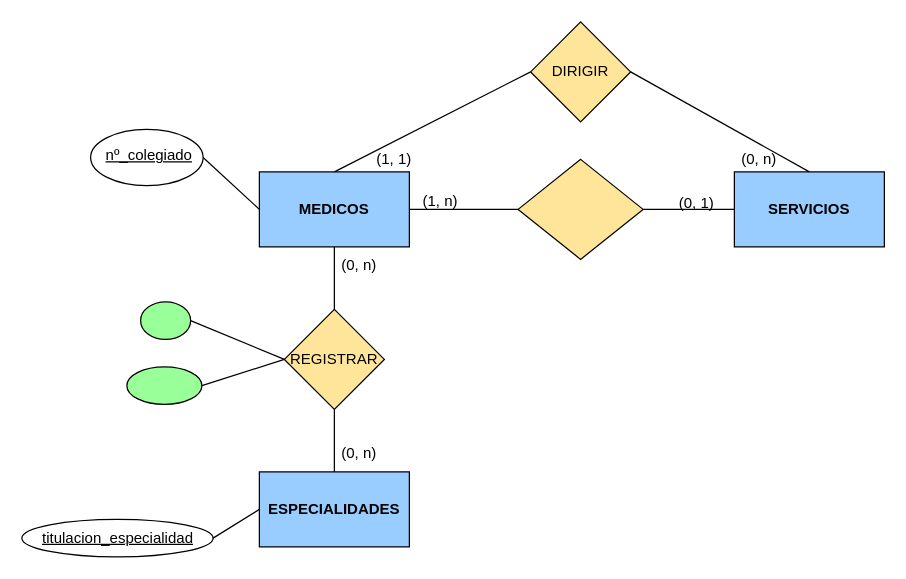
This 906x579 diagram has some shape labels left out. The shapes that lost their labels are listed below. From the top down, each one's box as (x1, y1, x2, y2) in pixels, then its label:
(517, 158, 643, 259): PERTENECER
(139, 301, 191, 339): año
(126, 366, 202, 404): princial
